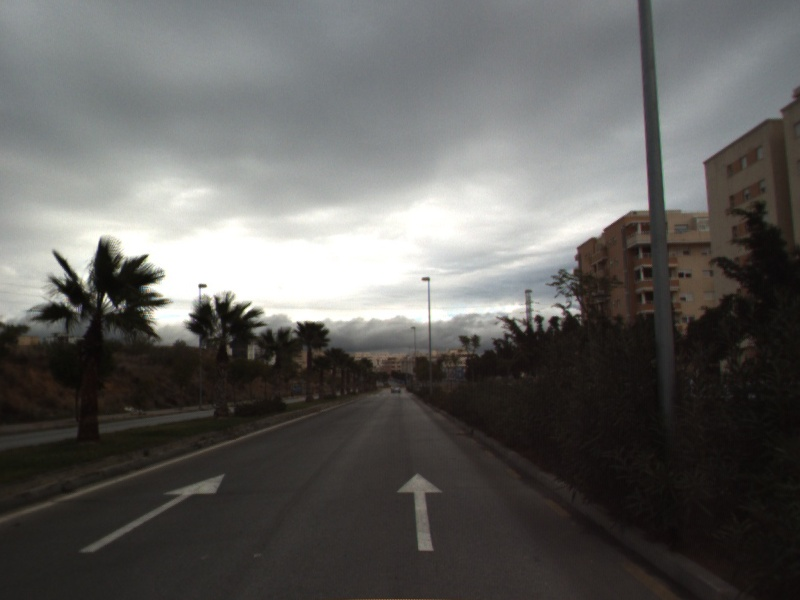STRAIGHT: (77, 472, 227, 555), (395, 471, 445, 553)
